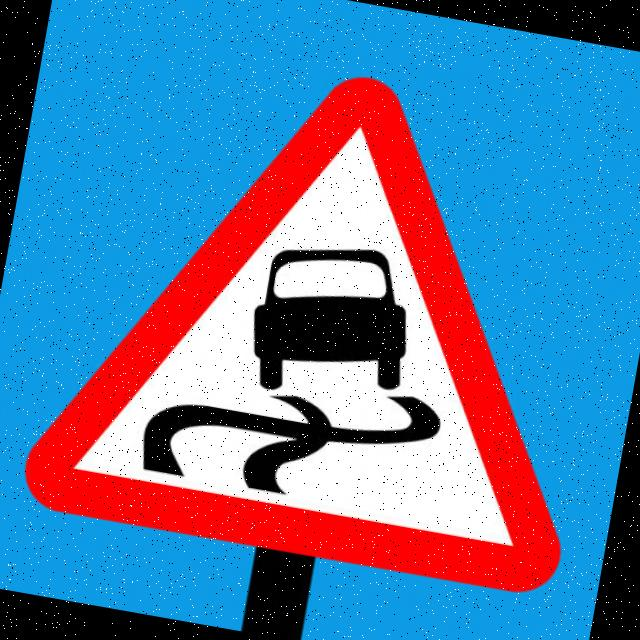road_slippery: (11, 22, 640, 607)
